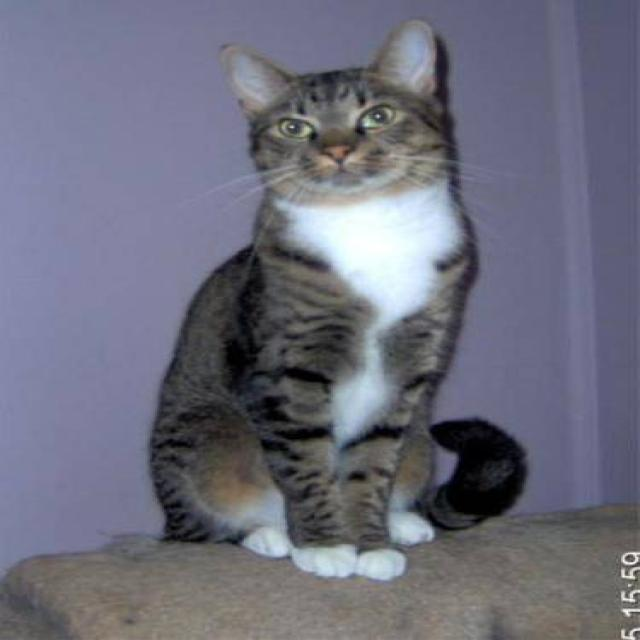cat: (147, 18, 527, 581)
